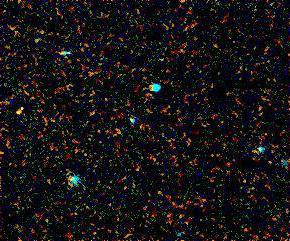star: (3, 94, 33, 124)
